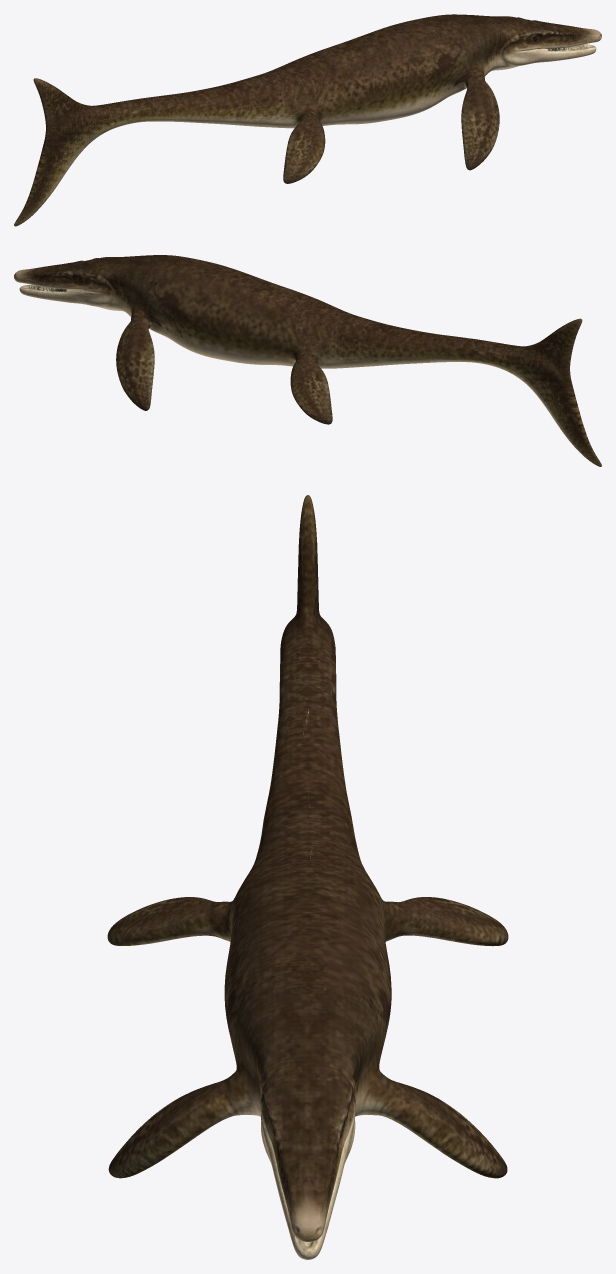
3 renders of one model, top to bottom at view 1: azimuth 30°, elevation 25°; view 2: azimuth 150°, elevation 25°; view 3: azimuth 270°, elevation 25°, orthographic. The views are drawn at different scales.
Visible parts, largest first — view 1: Authored orientation; view 2: Authored orientation; view 3: Authored orientation.
Part boxes in pixels (x1,y1,x2,y2): Authored orientation: (14,14,601,226); Authored orientation: (14,255,601,466); Authored orientation: (107,495,508,1259).
Bounding box in the file's own units: 8.87 × 2.17 × 2.62.
Materials: 1 (1 with a texture image).
